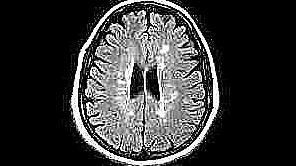Normal_Brain: (1, 1, 296, 166)
